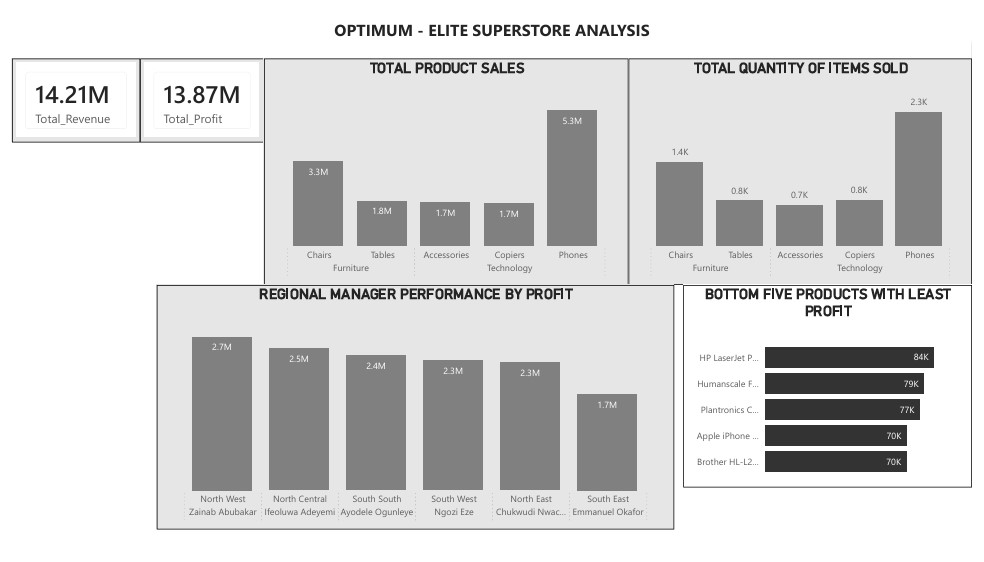

The page's visual inventory and layout, read from the dashboard file:
{"tool":"powerbi","page":{"name":"Page 1","canvas":[1280,720],"ordinal":0},"visuals":[{"type":"textbox","box":[0,0,1280.2,53.3],"z":0},{"type":"cardVisual","fields":{"Data":["Orders1.Total_Revenue"]},"box":[0,57.6,171.4,112.3],"z":1000},{"type":"cardVisual","fields":{"Data":["Orders1.Total_Profit"]},"box":[171.4,57.6,164.2,112.3],"z":2000},{"type":"clusteredColumnChart","title":"TOTAL PRODUCT SALES","fields":{"Category":["Product2.Category","Product2.Sub-Category"],"Y":["Orders1.Total_Profit"]},"box":[335.5,57.6,486.7,302.4],"z":3000},{"type":"clusteredColumnChart","title":"TOTAL QUANTITY OF ITEMS SOLD","fields":{"Category":["Product2.Category","Product2.Sub-Category"],"Y":["Sum(Orders1.Quantity)"]},"box":[822.2,57.6,457.9,302.4],"z":4000},{"type":"clusteredBarChart","title":"BOTTOM FIVE PRODUCTS WITH LEAST PROFIT","fields":{"Category":["Product2.Product Name"],"Y":["Orders1.Total_Profit"]},"box":[895,360,385,270],"z":5000},{"type":"clusteredColumnChart","title":"REGIONAL MANAGER PERFORMANCE BY PROFIT","fields":{"Category":["Manager3.Person","Manager3.Region"],"Y":["Orders1.Total_Profit"]},"box":[192.9,360,690,325.7],"z":6000}]}

Visuals, with their boxes in screenshot pixels (x1, y1, x2, y2), scaled from the page's 1280x720 canvas onto the 984x562 screenshot:
textbox: 0 0 983 42
cardVisual - Orders1.Total_Revenue: 0 45 132 133
cardVisual - Orders1.Total_Profit: 132 45 258 133
"TOTAL PRODUCT SALES" clusteredColumnChart: 258 45 632 281
"TOTAL QUANTITY OF ITEMS SOLD" clusteredColumnChart: 632 45 983 281
"BOTTOM FIVE PRODUCTS WITH LEAST PROFIT" clusteredBarChart: 688 281 983 492
"REGIONAL MANAGER PERFORMANCE BY PROFIT" clusteredColumnChart: 148 281 679 535
